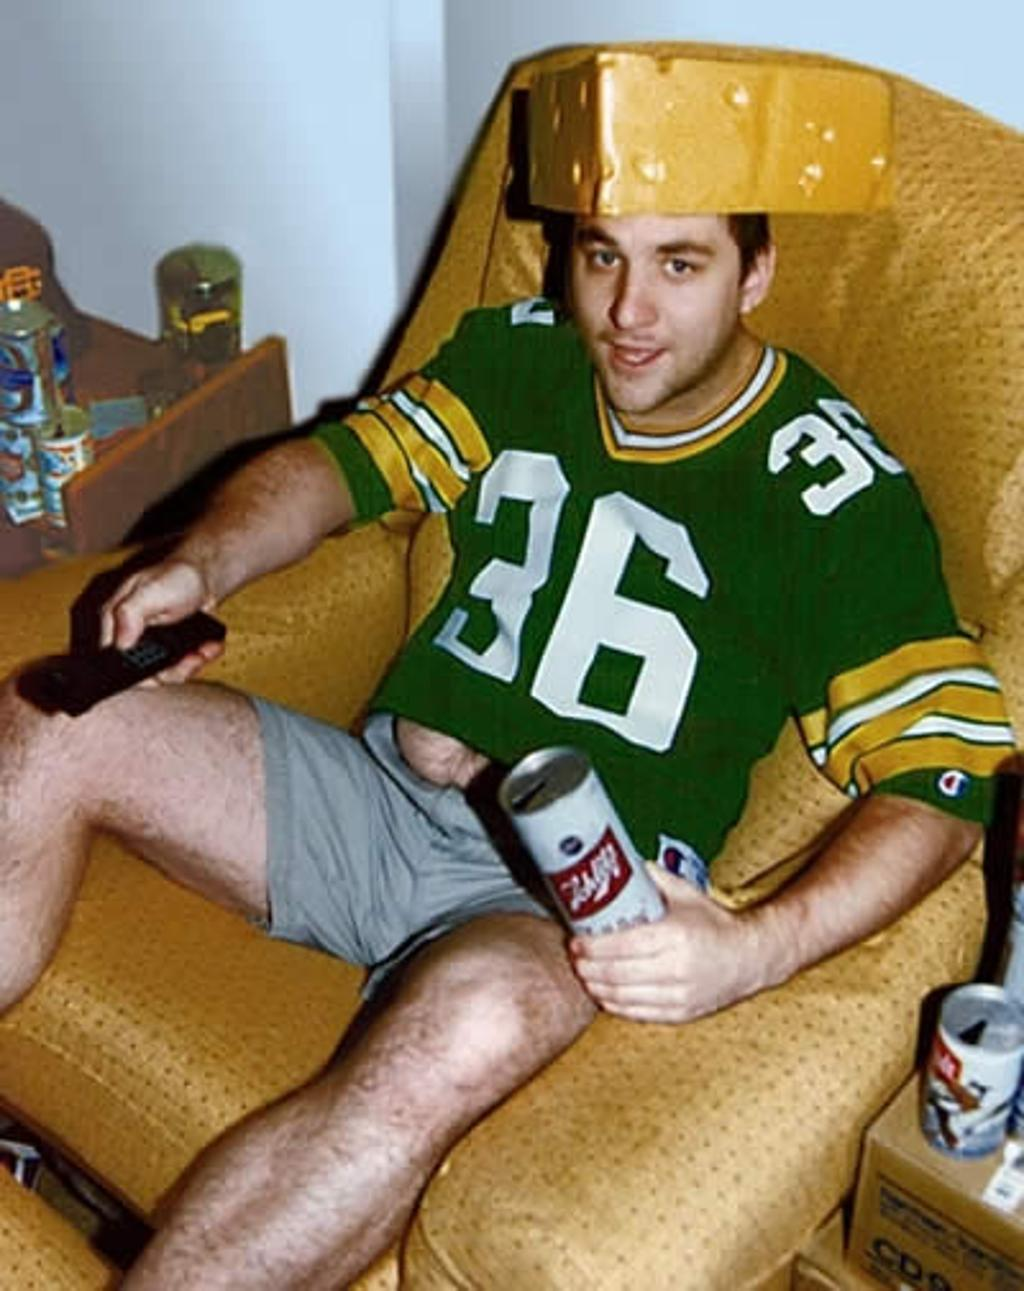face: (562, 199, 739, 416)
